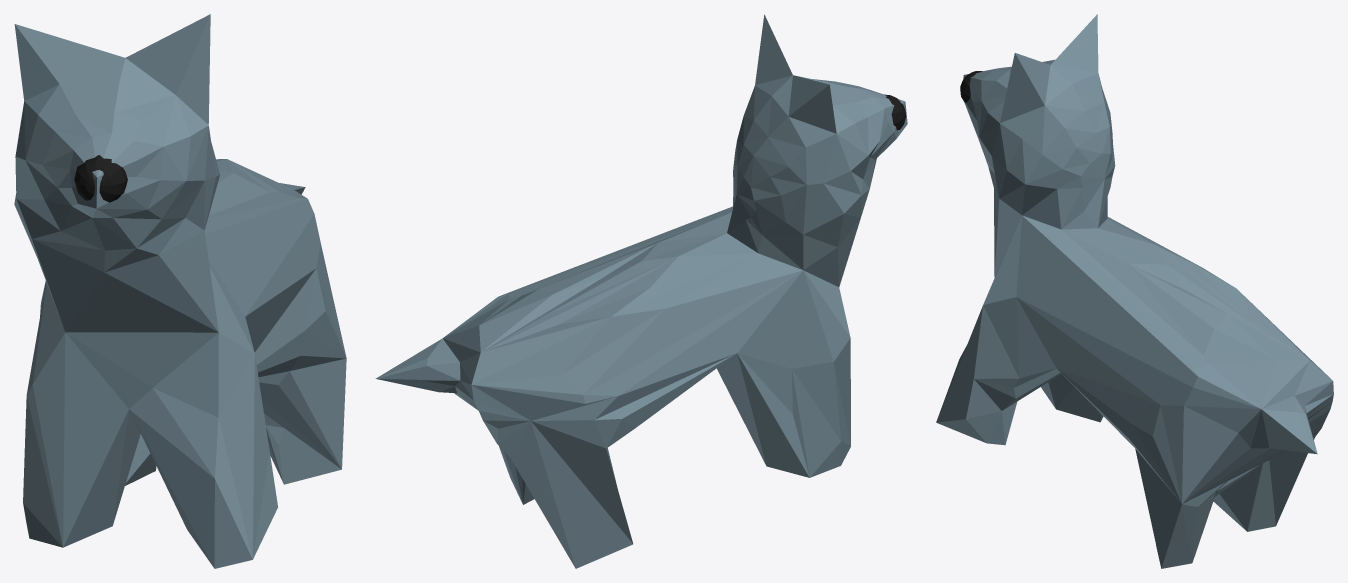
The picture shows the model from 3 angles, left to right: view 1: azimuth 30°, elevation 25°; view 2: azimuth 150°, elevation 25°; view 3: azimuth 270°, elevation 25°; orthographic projection. The views are drawn at different scales.
Visible parts, largest first — view 1: group_581652330, mesh_832694906; view 2: group_581652330; view 3: group_581652330.
Part boxes in pixels (x1,y1,x2,y2): group_581652330: [14, 14, 346, 568]; mesh_832694906: [74, 155, 127, 202]; group_581652330: [375, 14, 907, 568]; group_581652330: [936, 14, 1333, 568].
Bounding box in the file's own units: 19.66 × 24.77 × 19.88.
